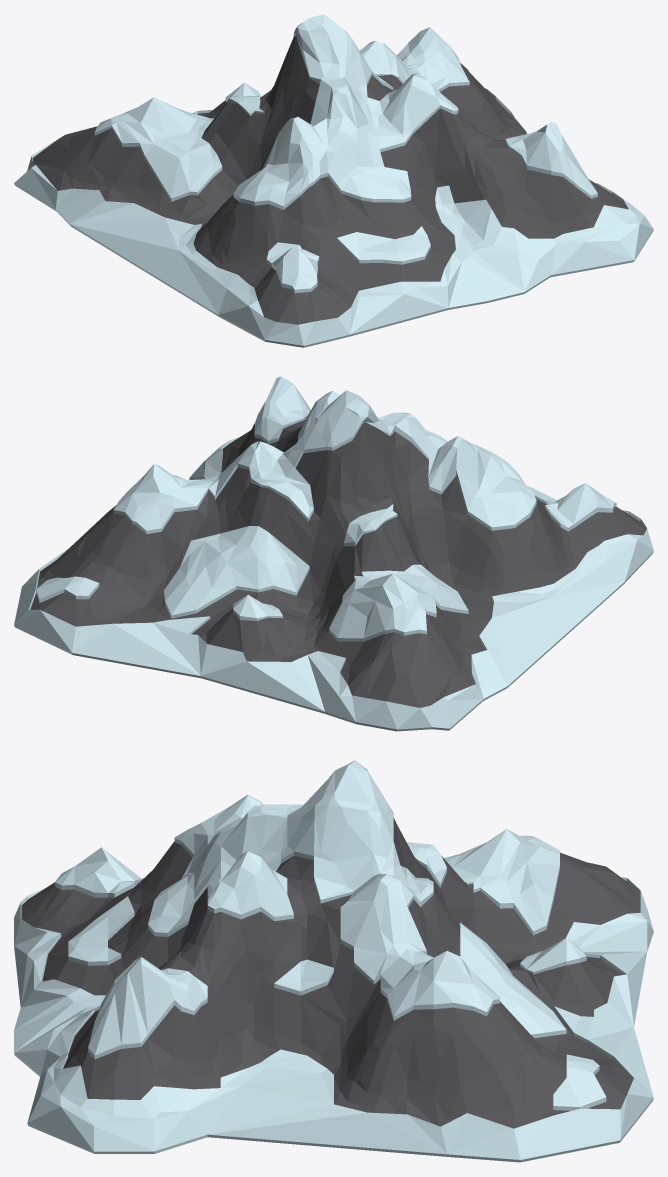
File: SM_Env_MountainSnow_01.gltf
3 views of the same model, one above another, from view 1: azimuth 30°, elevation 25°; view 2: azimuth 150°, elevation 25°; view 3: azimuth 270°, elevation 25° (orthographic). The views are drawn at different scales.
Parts seen in each view (by area): view 1: SM_Env_MountainSnow_01; view 2: SM_Env_MountainSnow_01; view 3: SM_Env_MountainSnow_01.
Boxes of the visible parts, bbox=[...] form: SM_Env_MountainSnow_01: bbox=[14, 14, 653, 347]; SM_Env_MountainSnow_01: bbox=[14, 376, 653, 731]; SM_Env_MountainSnow_01: bbox=[14, 760, 653, 1162].
Size of the model in its own units: 39.35 by 16.76 by 38.94.
1 material, 1 textured.
